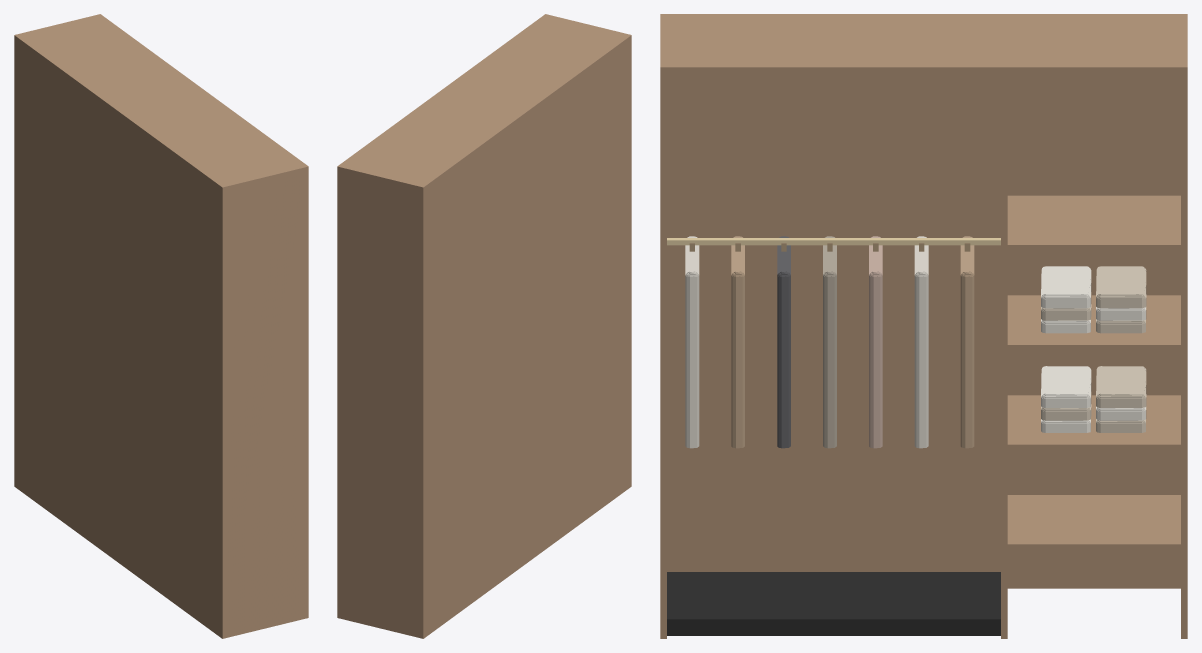
Rendered from SM_Closet_Entrance.fbx.
3 renders of one model, left to right at view 1: azimuth 30°, elevation 25°; view 2: azimuth 150°, elevation 25°; view 3: azimuth 270°, elevation 25°, orthographic. The views are drawn at different scales.
Visible parts, largest first — view 1: SM_Closet_Entrance; view 2: SM_Closet_Entrance; view 3: SM_Closet_Entrance.
Part boxes in pixels (x1,y1,x2,y2): SM_Closet_Entrance: (14, 14, 308, 638); SM_Closet_Entrance: (337, 14, 631, 638); SM_Closet_Entrance: (660, 14, 1187, 638).
Bounding box in the file's own units: 55 × 275 × 230.
